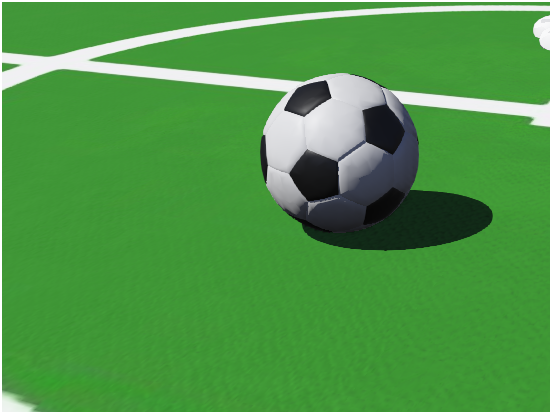Ball: (220, 61, 472, 299)
